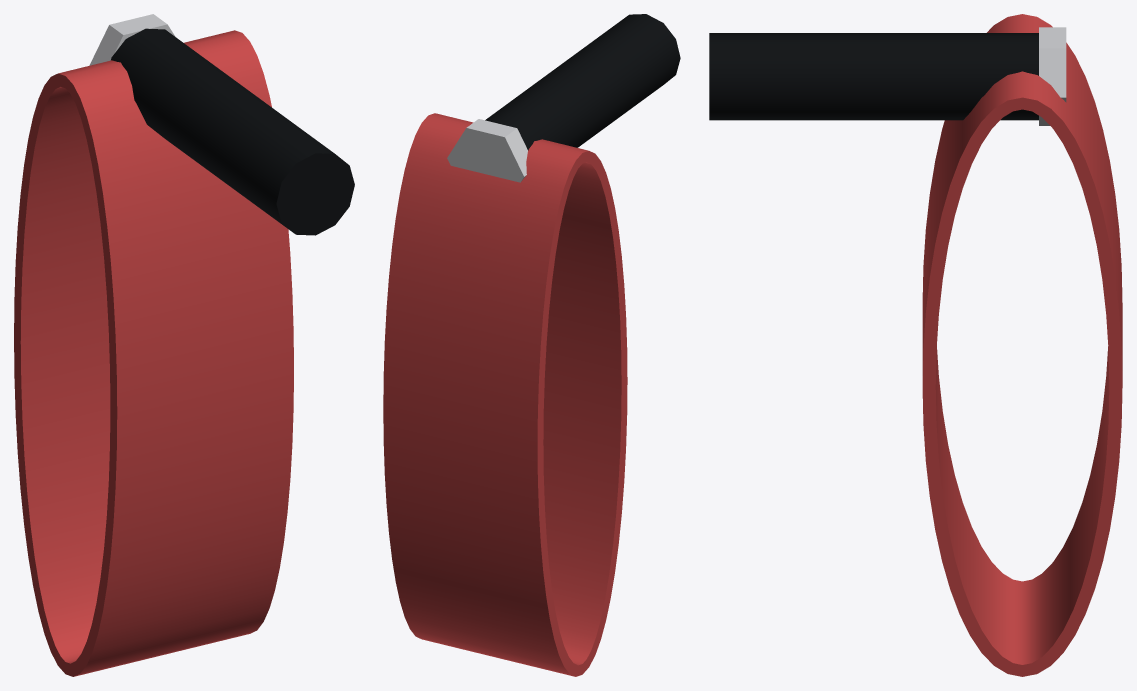
File: DT08_tow_strap.glb
The picture shows the model from 3 angles, left to right: view 1: azimuth 30°, elevation 25°; view 2: azimuth 150°, elevation 25°; view 3: azimuth 270°, elevation 25°; orthographic projection. The views are drawn at different scales.
Visible parts, largest first — view 1: MOD_ND_DT08_webbing, MOD_ND_DT08_bracket, MOD_ND_DT08_bolt; view 2: MOD_ND_DT08_webbing, MOD_ND_DT08_bracket, MOD_ND_DT08_bolt; view 3: MOD_ND_DT08_webbing, MOD_ND_DT08_bracket, MOD_ND_DT08_bolt.
Boxes of the visible parts, x1,y1,x2,y2 form: MOD_ND_DT08_webbing: (14, 30, 293, 676); MOD_ND_DT08_bracket: (111, 28, 354, 235); MOD_ND_DT08_bolt: (89, 14, 175, 65); MOD_ND_DT08_webbing: (383, 113, 627, 676); MOD_ND_DT08_bracket: (485, 14, 680, 150); MOD_ND_DT08_bolt: (447, 119, 527, 182); MOD_ND_DT08_webbing: (922, 14, 1122, 676); MOD_ND_DT08_bracket: (709, 33, 1038, 120); MOD_ND_DT08_bolt: (1039, 27, 1066, 125).
Bounding box in the file's own units: 0.036 × 0.1202 × 0.0752.
